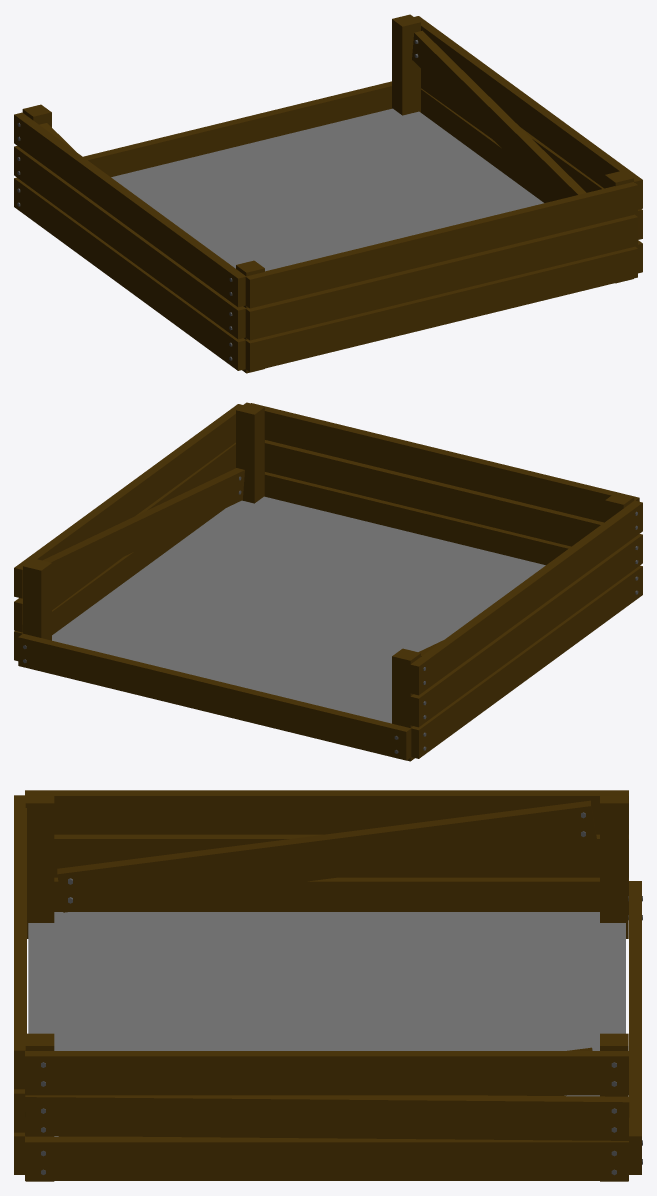
File: Garden.fbx
The picture shows the model from 3 angles, top to bottom: view 1: azimuth 30°, elevation 25°; view 2: azimuth 150°, elevation 25°; view 3: azimuth 270°, elevation 25°; orthographic projection. The views are drawn at different scales.
Parts seen in each view (by area): view 1: pCube26; view 2: pCube26; view 3: pCube26.
Part boxes in pixels (x1,y1,x2,y2): pCube26: (14,14,642,373); pCube26: (14,402,642,761); pCube26: (14,790,642,1181).
Size of the model in its own units: 22.05 by 5.22 by 21.91.
